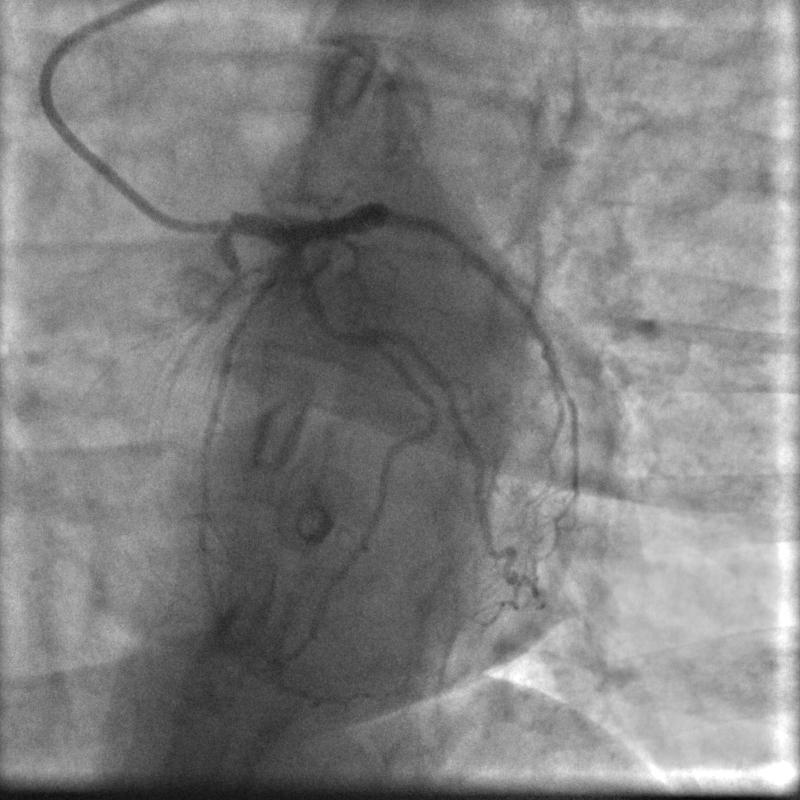Stenosis: (319, 317, 372, 352)
